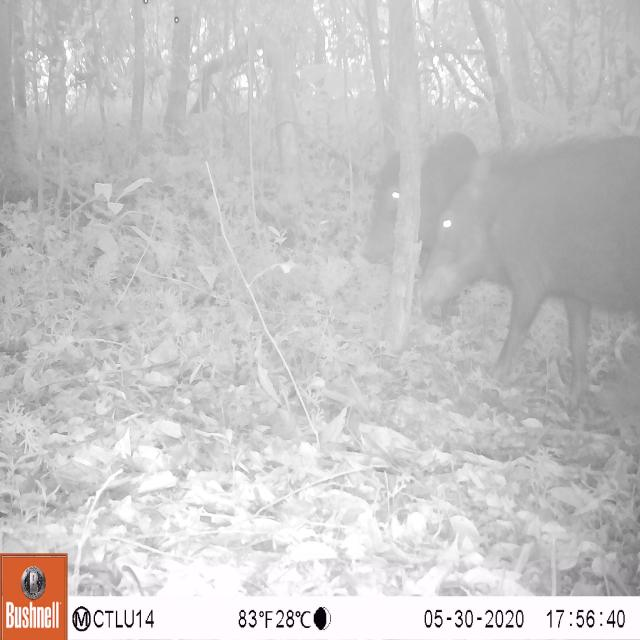White-lipped Peccary: (419, 140, 640, 377), (364, 123, 485, 284)
